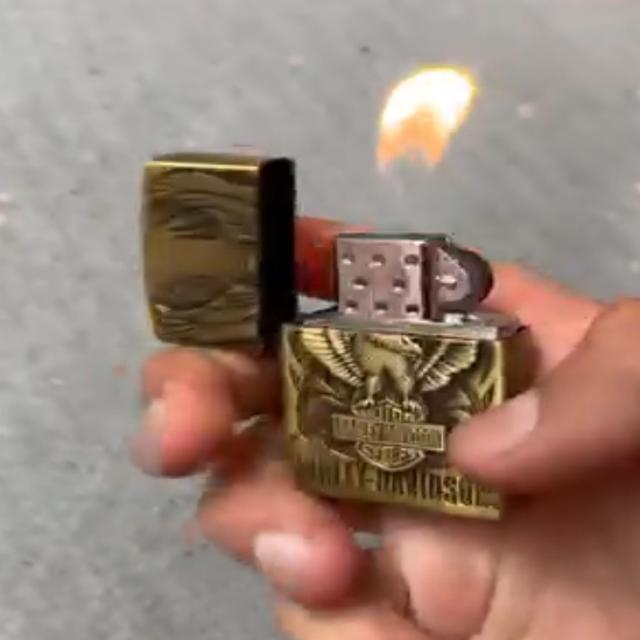fire: (378, 67, 472, 162)
